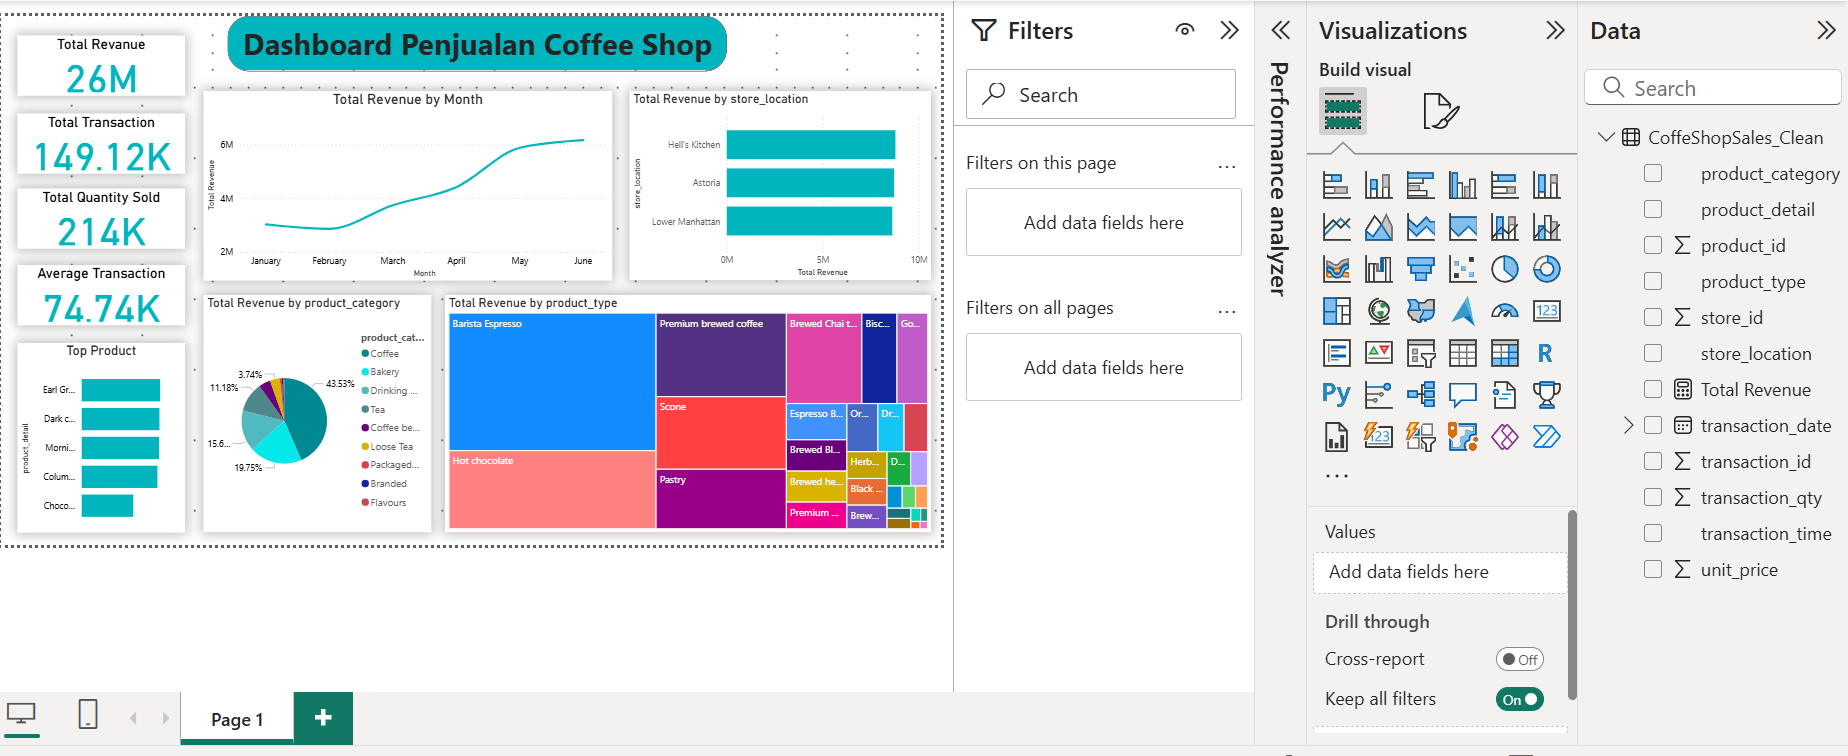

This screenshot's page, from the dashboard's own definition file:
{"tool":"powerbi","page":{"name":"Page 1","canvas":[1280,720],"ordinal":0},"visuals":[{"type":"textbox","title":"Dashboard Penjualan Coffee Shop","box":[308.2,0,679.6,75.5],"z":0},{"type":"card","title":"Total Revanue","fields":{"Values":["CoffeShopSales_Clean.Total Revenue"]},"box":[22,26,228,82],"z":1},{"type":"card","title":"Total Transaction","fields":{"Values":["CountNonNull(CoffeShopSales_Clean.transaction_qty)"]},"box":[22,132,228,82],"z":2},{"type":"card","title":"Total Quantity Sold","fields":{"Values":["Sum(CoffeShopSales_Clean.transaction_qty)"]},"box":[22,234,228,82],"z":3},{"type":"card","title":"Average Transaction","fields":{"Values":["Avg(CoffeShopSales_Clean.transaction_id)"]},"box":[22,338,228,82],"z":4},{"type":"lineChart","fields":{"Category":["CoffeShopSales_Clean.transaction_date.Variation.Date Hierarchy.Month","CoffeShopSales_Clean.transaction_date.Variation.Date Hierarchy.Day"],"Y":["CoffeShopSales_Clean.Total Revenue"]},"box":[276,102,556,258],"z":5},{"type":"barChart","fields":{"Category":["CoffeShopSales_Clean.store_location"],"Y":["CoffeShopSales_Clean.Total Revenue"]},"box":[855.1,102,410.2,257.1],"z":6},{"type":"barChart","title":"Top Product","fields":{"Category":["CoffeShopSales_Clean.product_detail"],"Y":["Sum(CoffeShopSales_Clean.transaction_qty)"]},"box":[22,444,228,258],"z":7},{"type":"pieChart","fields":{"Category":["CoffeShopSales_Clean.product_category"],"Y":["CoffeShopSales_Clean.Total Revenue"]},"box":[275.5,379.6,310.2,322.4],"z":8},{"type":"treemap","fields":{"Group":["CoffeShopSales_Clean.product_type"],"Values":["CoffeShopSales_Clean.Total Revenue"]},"box":[604.1,379.6,661.2,322.4],"z":9}]}

Visuals, with their boxes on the page's 1280x720 design canvas (x1, y1, x2, y2). These are canvas units, not pixel positions in the 1848x756 screenshot, which may show the page scaled, cropped or inside an application window:
"Dashboard Penjualan Coffee Shop" textbox: 308:0:988:76
"Total Revanue" card: 22:26:250:108
"Total Transaction" card: 22:132:250:214
"Total Quantity Sold" card: 22:234:250:316
"Average Transaction" card: 22:338:250:420
lineChart - CoffeShopSales_Clean.transaction_date.Variation.Date Hierarchy.Month x CoffeShopSales_Clean.transaction_date.Variation.Date Hierarchy.Day: 276:102:832:360
barChart - CoffeShopSales_Clean.store_location x CoffeShopSales_Clean.Total Revenue: 855:102:1265:359
"Top Product" barChart: 22:444:250:702
pieChart - CoffeShopSales_Clean.product_category x CoffeShopSales_Clean.Total Revenue: 276:380:586:702
treemap - CoffeShopSales_Clean.product_type x CoffeShopSales_Clean.Total Revenue: 604:380:1265:702
